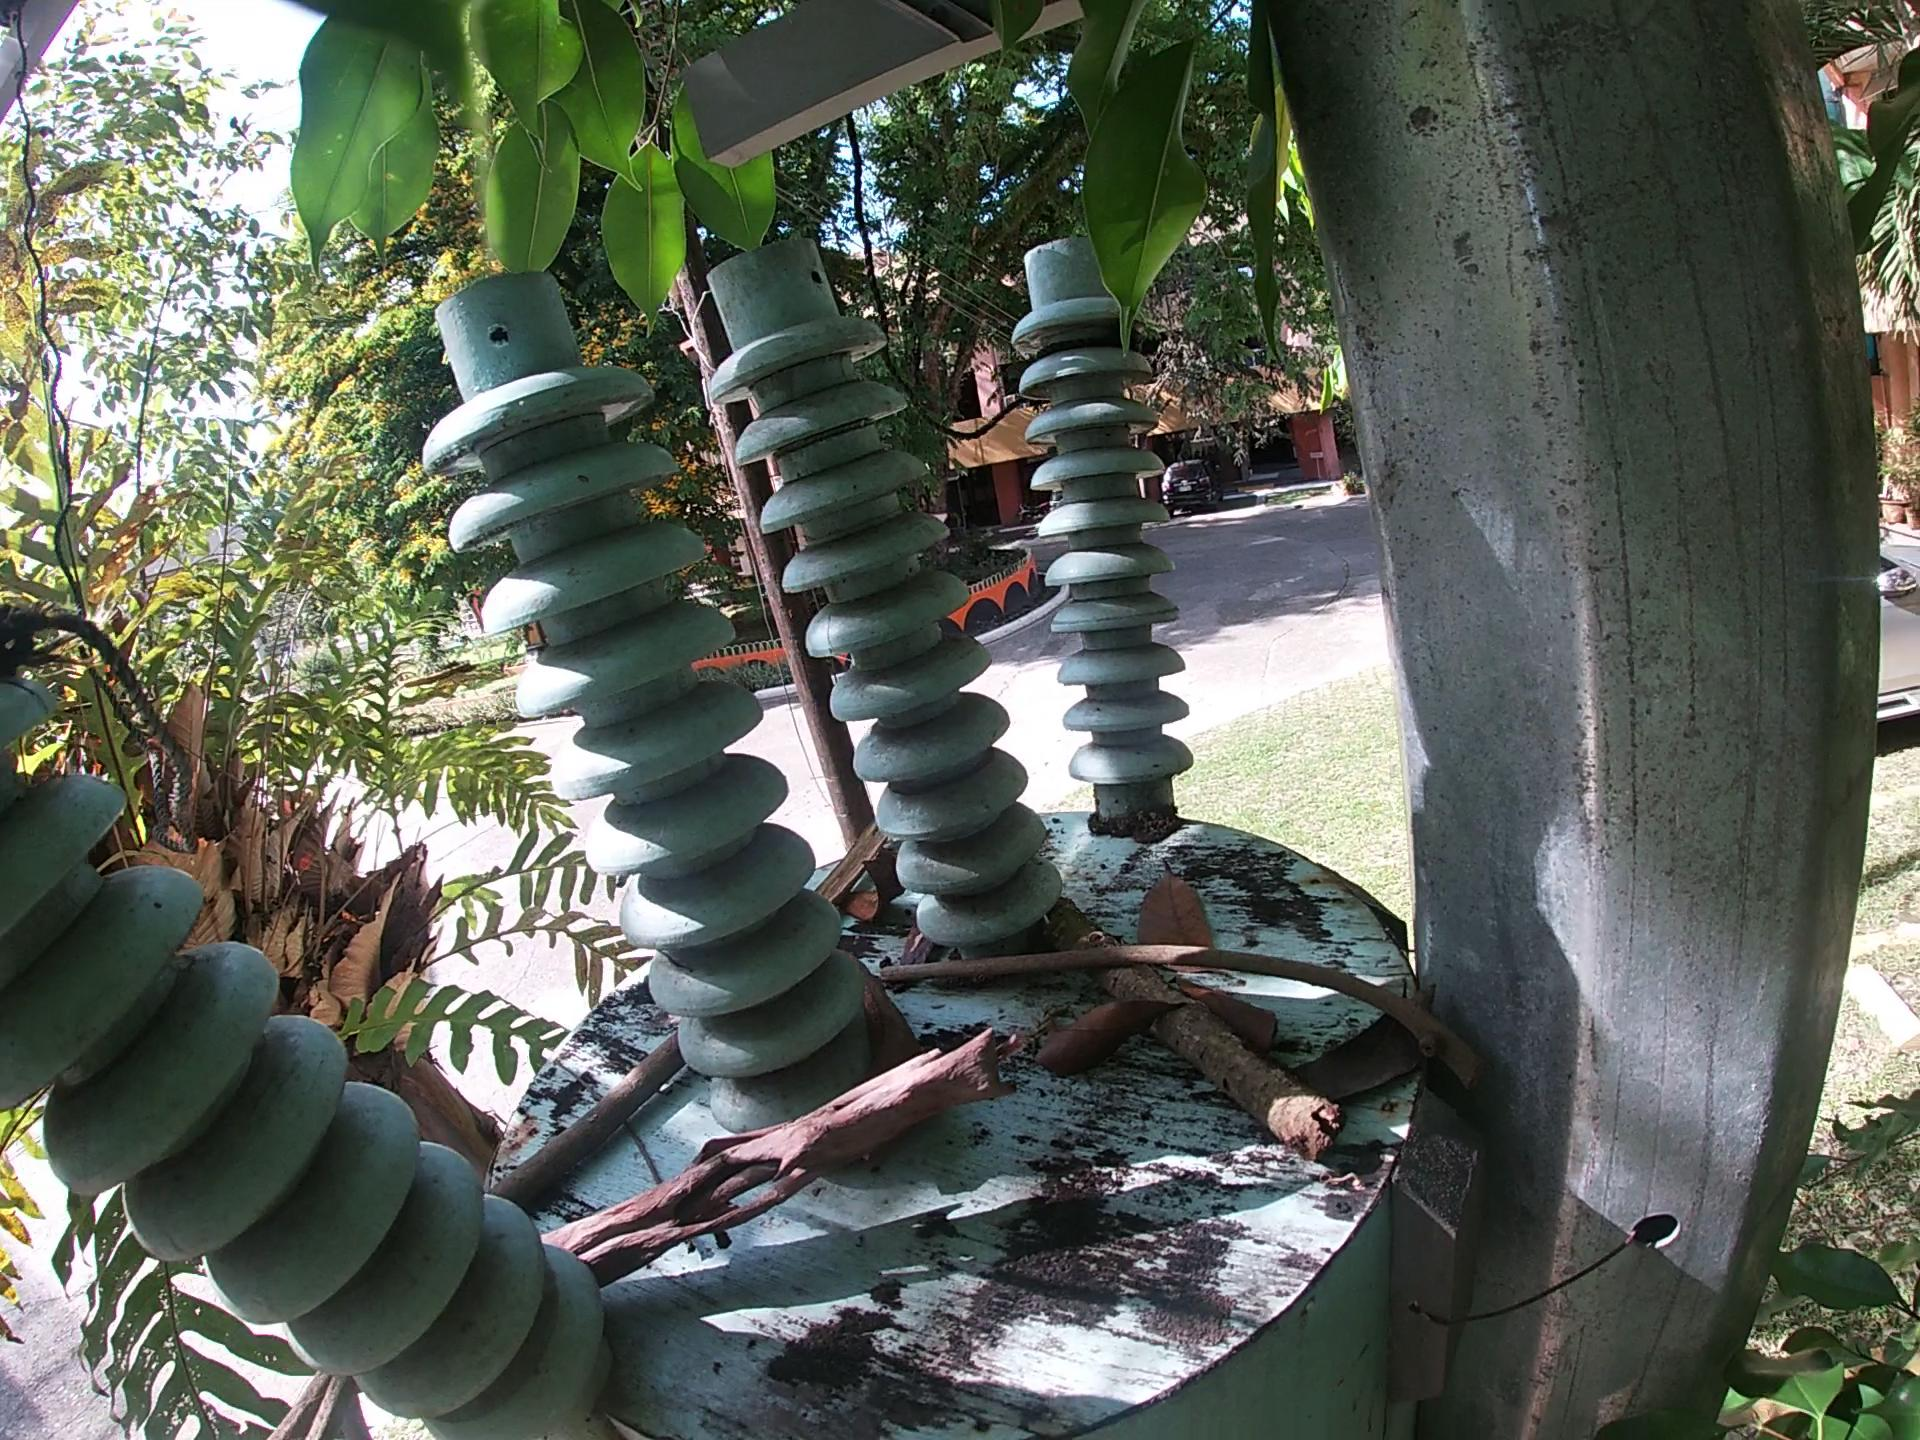leaf: (1285, 976, 1426, 1116), (1027, 985, 1191, 1085), (1120, 861, 1225, 954), (1181, 973, 1288, 1056)
mahogany fruit: (848, 954, 924, 1082), (835, 850, 909, 933)
tree branch: (525, 1021, 1027, 1296), (871, 936, 1501, 1100), (1042, 898, 1355, 1165), (481, 1026, 692, 1219), (816, 818, 889, 908)
